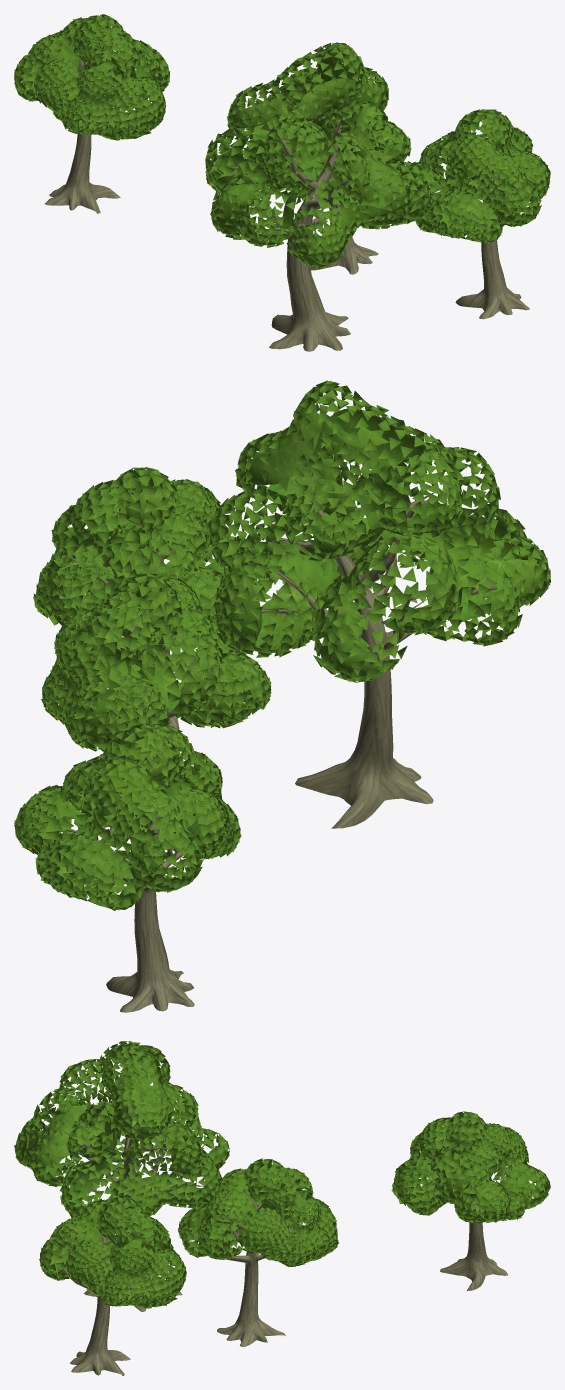
The model's file is SM_ENV_LKNVLD_TreeSet_I.FBX.
3 views of the same model, one above another, from view 1: azimuth 30°, elevation 25°; view 2: azimuth 150°, elevation 25°; view 3: azimuth 270°, elevation 25° (orthographic). The views are drawn at different scales.
Visible parts, largest first — view 1: SM_ENV_LKNVLD_TreeSet_I; view 2: SM_ENV_LKNVLD_TreeSet_I; view 3: SM_ENV_LKNVLD_TreeSet_I.
Boxes of the visible parts, bbox=[...] form: SM_ENV_LKNVLD_TreeSet_I: bbox=[14, 14, 550, 351]; SM_ENV_LKNVLD_TreeSet_I: bbox=[14, 380, 550, 1012]; SM_ENV_LKNVLD_TreeSet_I: bbox=[14, 1041, 550, 1375].
Bounding box in the file's own units: 1673 × 1388 × 2596.
